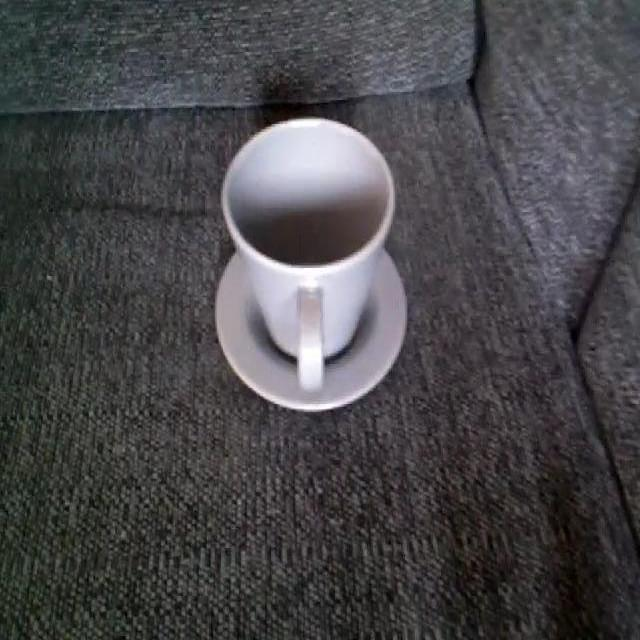cup: (210, 114, 414, 427)
